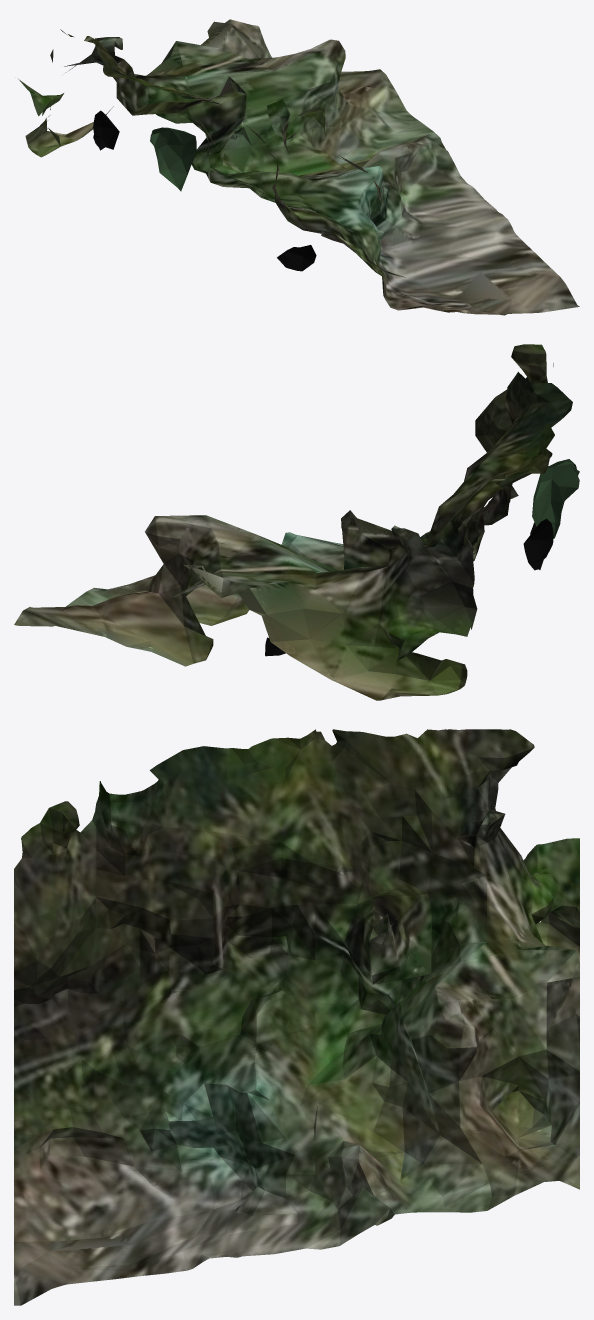
3 views of the same model, one above another, from view 1: azimuth 30°, elevation 25°; view 2: azimuth 150°, elevation 25°; view 3: azimuth 270°, elevation 25° (orthographic). The views are drawn at different scales.
Size of the model in its own units: 3.35 by 2.2 by 3.35.
4 materials, 4 textured.
